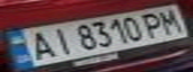0: (121, 14, 148, 43)
1: (106, 16, 127, 45)
3: (90, 19, 115, 48)
8: (72, 20, 96, 52)
A: (18, 29, 60, 61)
I: (45, 25, 75, 55)
M: (154, 7, 187, 34)
P: (136, 10, 169, 38)
